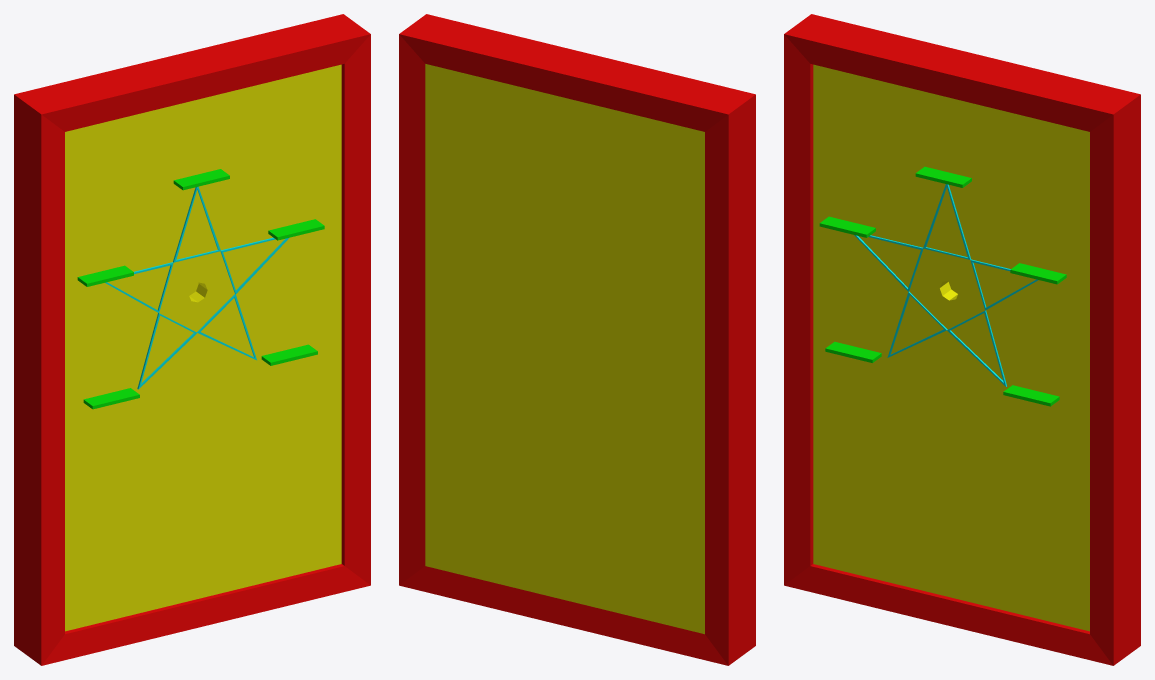
File: escape_door (1).fbx
3 views of the same model, side by side, from view 1: azimuth 30°, elevation 25°; view 2: azimuth 150°, elevation 25°; view 3: azimuth 330°, elevation 25° (orthographic).
Parts seen in each view (by area): view 1: pCube10, pPipe4, pCube8, pCube7, pCube9, pCube6, pCube5; view 2: pCube10; view 3: pCube10, pPipe4, pCube7, pCube6, pCube8, pCube5, pCube9.
Boxes of the visible parts, <box> form: pCube10: <box>14,14,370,665</box>; pPipe4: <box>105,186,289,389</box>; pCube8: <box>83,388,139,409</box>; pCube7: <box>261,344,317,365</box>; pCube9: <box>173,169,229,190</box>; pCube6: <box>268,219,324,240</box>; pCube5: <box>77,265,133,286</box>; pCube10: <box>399,14,755,665</box>; pCube10: <box>784,14,1140,665</box>; pPipe4: <box>854,184,1038,386</box>; pCube7: <box>1003,385,1059,406</box>; pCube6: <box>1010,263,1066,284</box>; pCube8: <box>825,341,881,362</box>; pCube5: <box>819,216,875,237</box>; pCube9: <box>915,166,971,187</box>.
Size of the model in its own units: 10.92 by 17.47 by 1.86.
